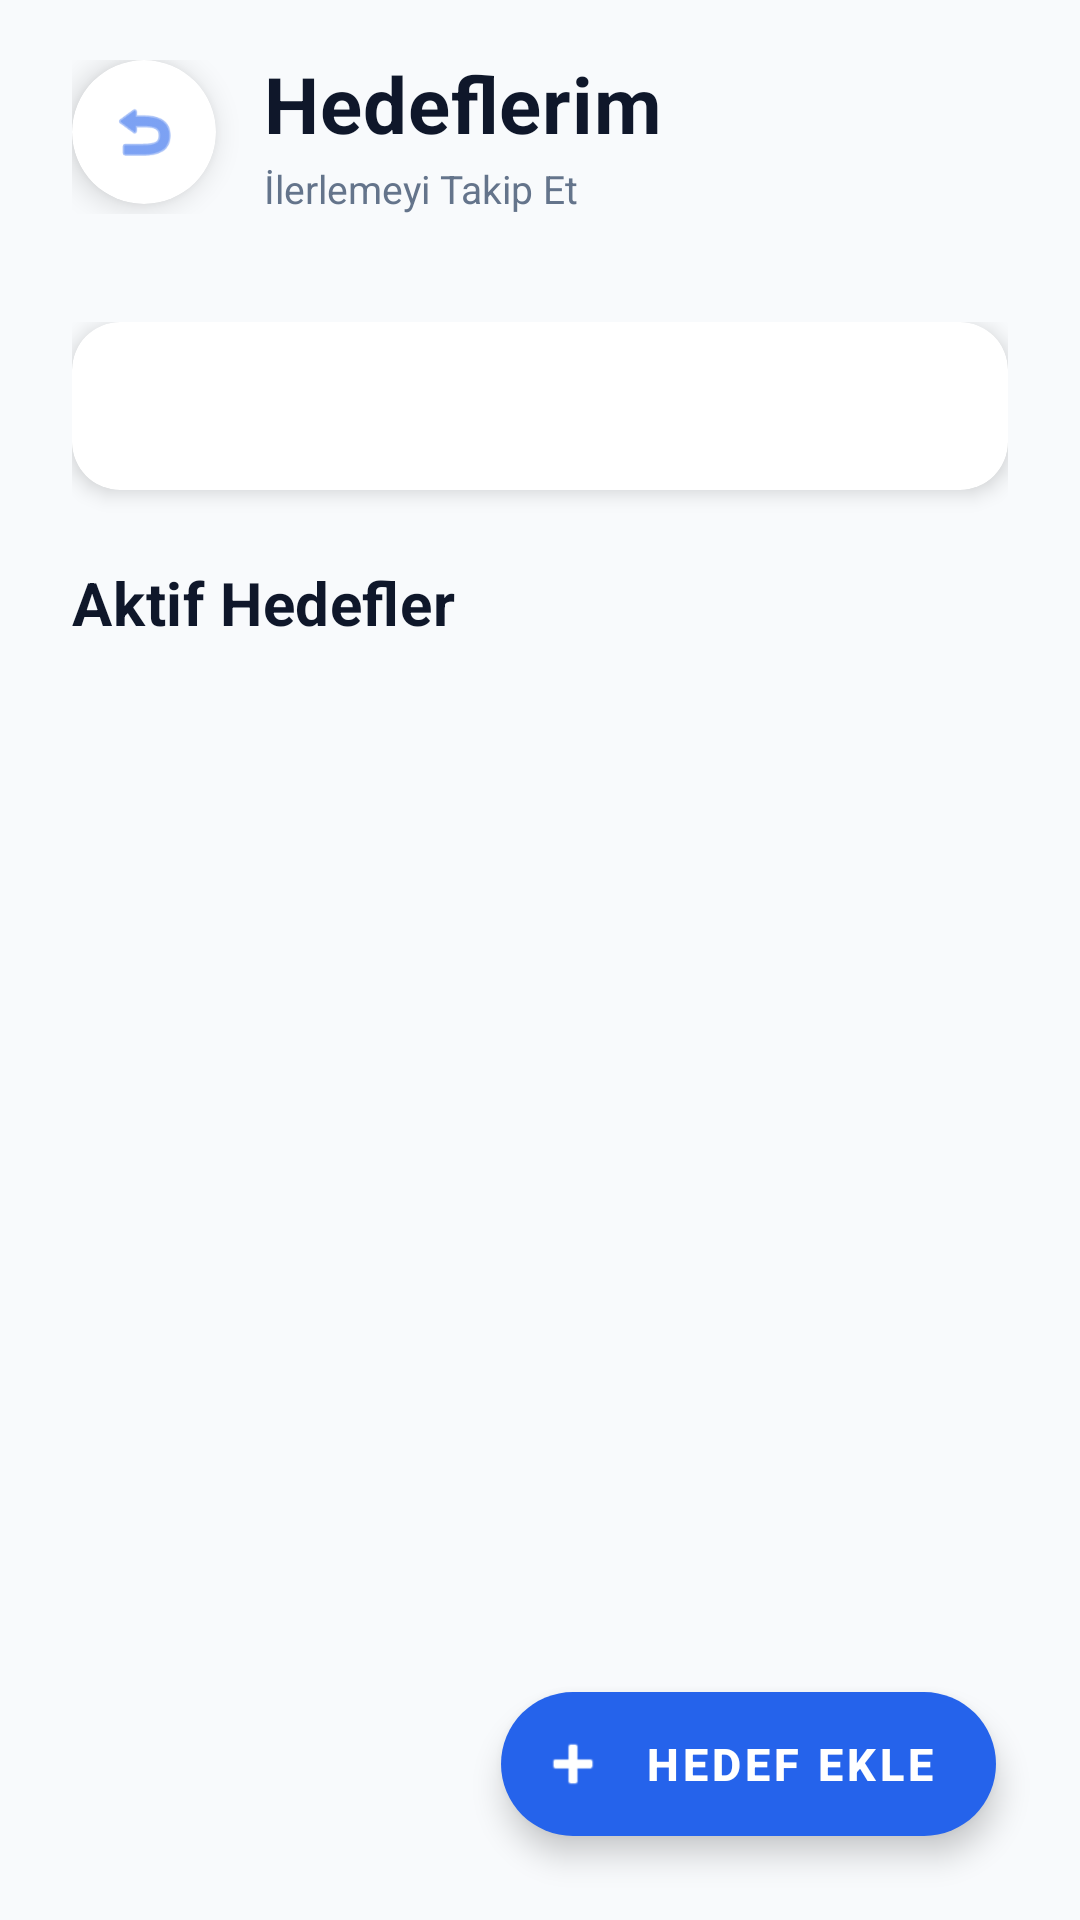

Where icons sit on this 1080*1920 app screen, as [x1,y1,x2,y2]:
revert: [119,109,171,156]
